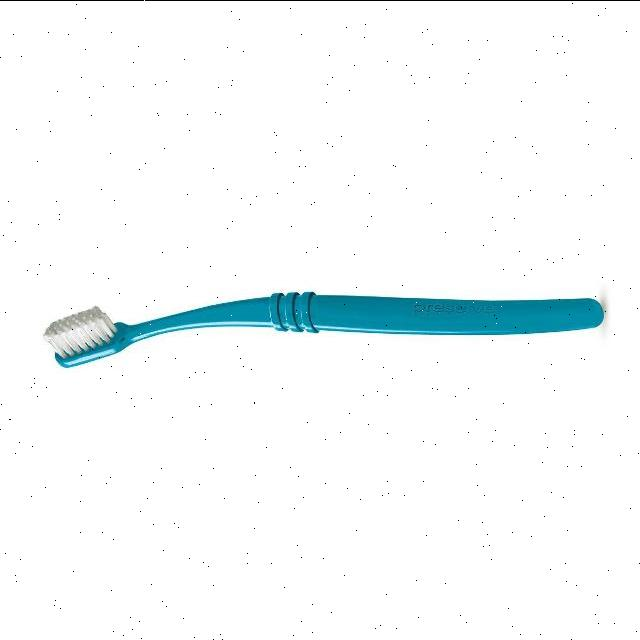toothbrush: (37, 232, 599, 422)
